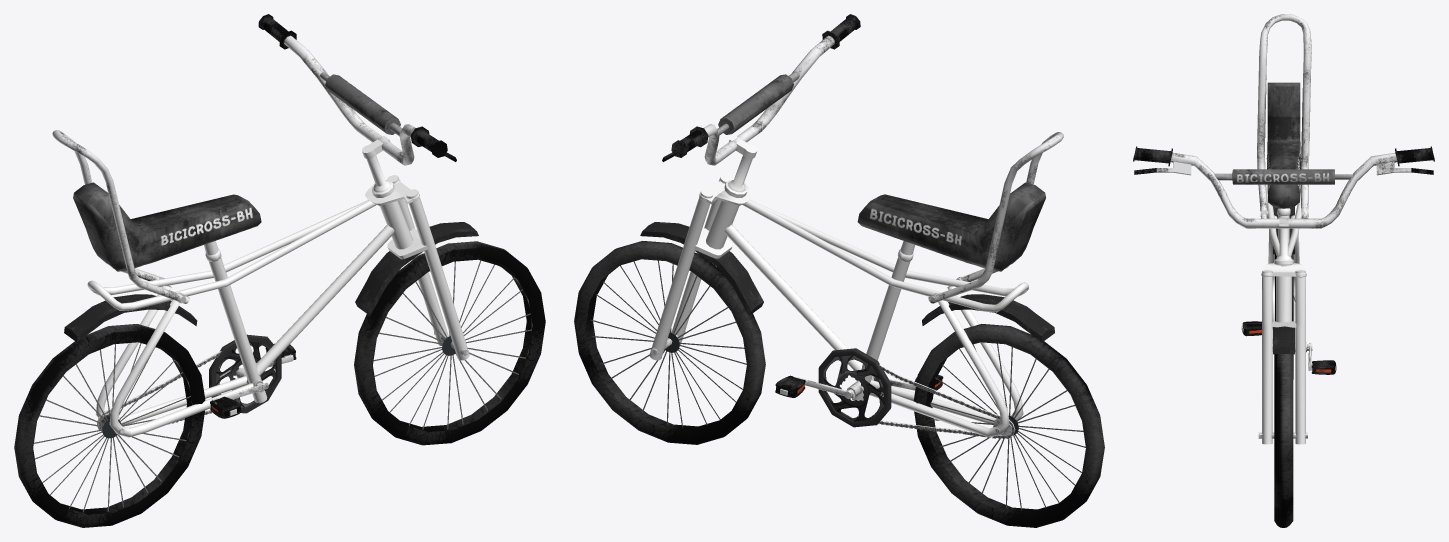
Rendered from vehicle_bicycle_bh_crossbike.glb.
3 views of the same model, side by side, from view 1: azimuth 30°, elevation 25°; view 2: azimuth 150°, elevation 25°; view 3: azimuth 270°, elevation 25° (orthographic). The views are drawn at different scales.
Visible parts, largest first — view 1: body, handlebar, wheel_r, wheel_f, pedals_geo; view 2: body, handlebar, wheel_f, wheel_r, pedals_geo; view 3: handlebar, body, wheel_f.
Part boxes in pixels (x1,y1,x2,y2): body: [52, 130, 469, 437]; handlebar: [258, 14, 478, 360]; wheel_r: [14, 324, 205, 527]; wheel_f: [354, 241, 545, 445]; pedals_geo: [209, 334, 293, 415]; body: [650, 132, 1063, 438]; handlebar: [640, 14, 860, 360]; wheel_f: [574, 241, 765, 444]; wheel_r: [913, 324, 1104, 527]; pedals_geo: [780, 348, 915, 427]; handlebar: [1133, 146, 1434, 444]; body: [1257, 14, 1311, 438]; wheel_f: [1274, 354, 1293, 527].
Bounding box in the file's own units: 1.49 × 1.08 × 0.8593.
Materials: 4 (3 with a texture image).
